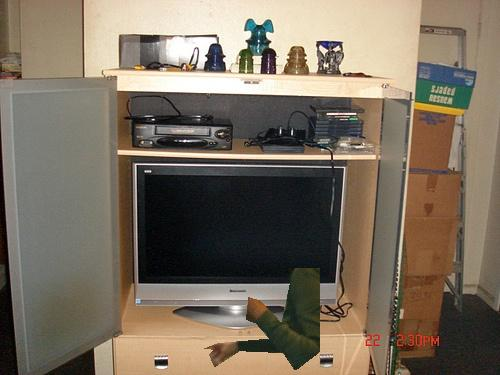tampered: (205, 269, 320, 370)
